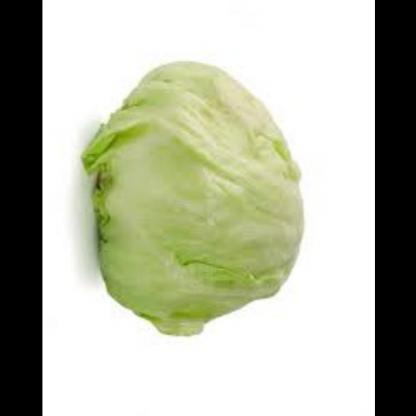salad: (68, 52, 311, 338)
